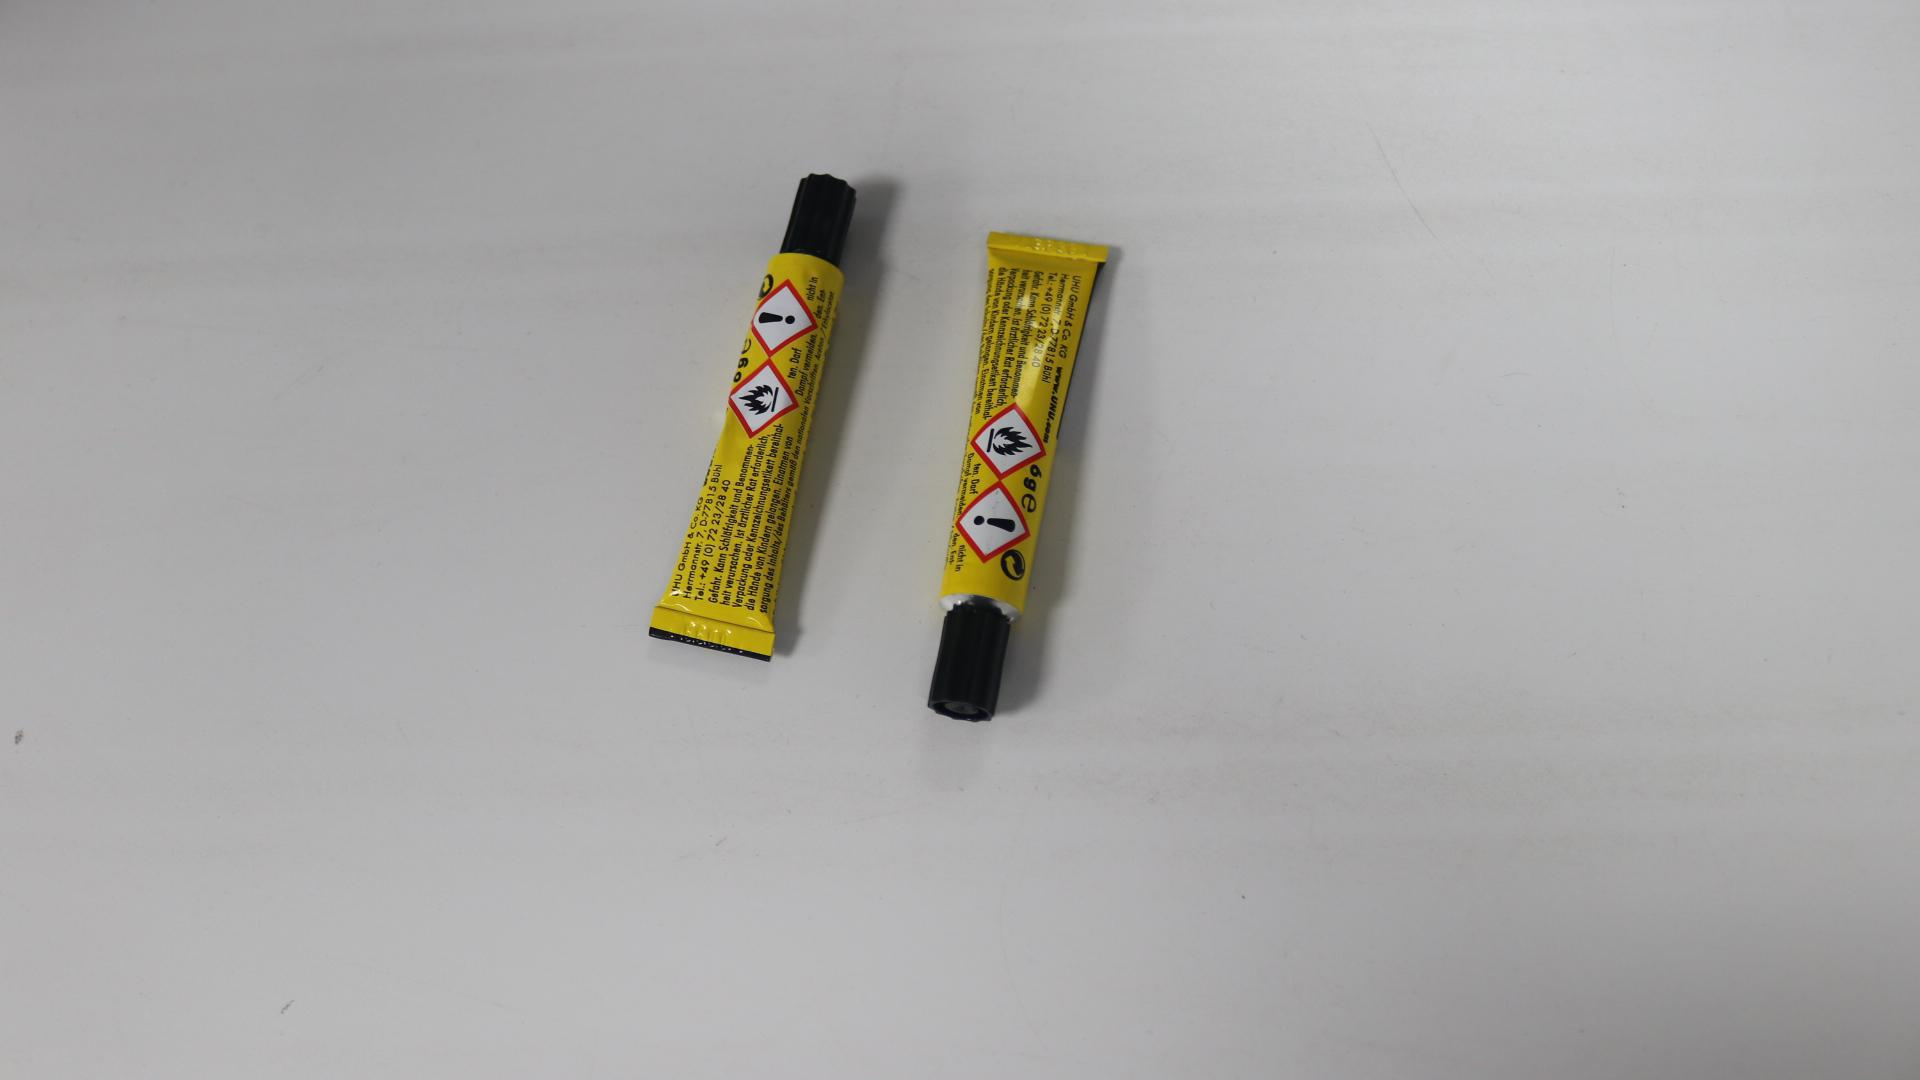Head: (965, 645, 983, 659), (810, 210, 825, 226)
Tail: (704, 622, 724, 647), (1039, 240, 1057, 255)
Tube: (649, 173, 860, 661), (927, 229, 1108, 723)
